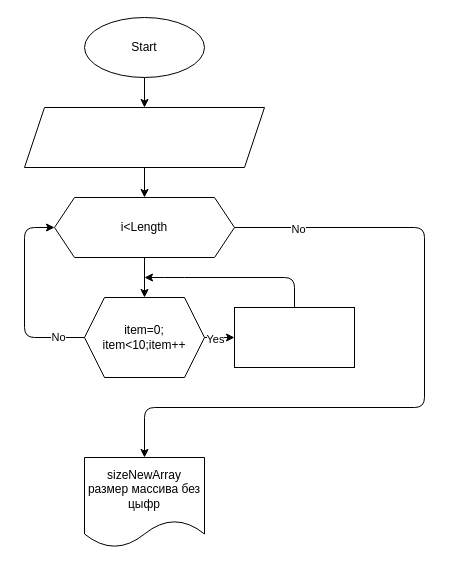
The diagram is 450 pixels wide and 565 high, and some of its shapes have lost their labels. Here are the shapes that lost their labels. From the top down, the box of each, then its label:
(24, 106, 264, 168): mixedArray={массив символов и цыфр} sizeNewArray=0
(234, 306, 354, 368): mixedArray[i] != item sizeNewArray++
